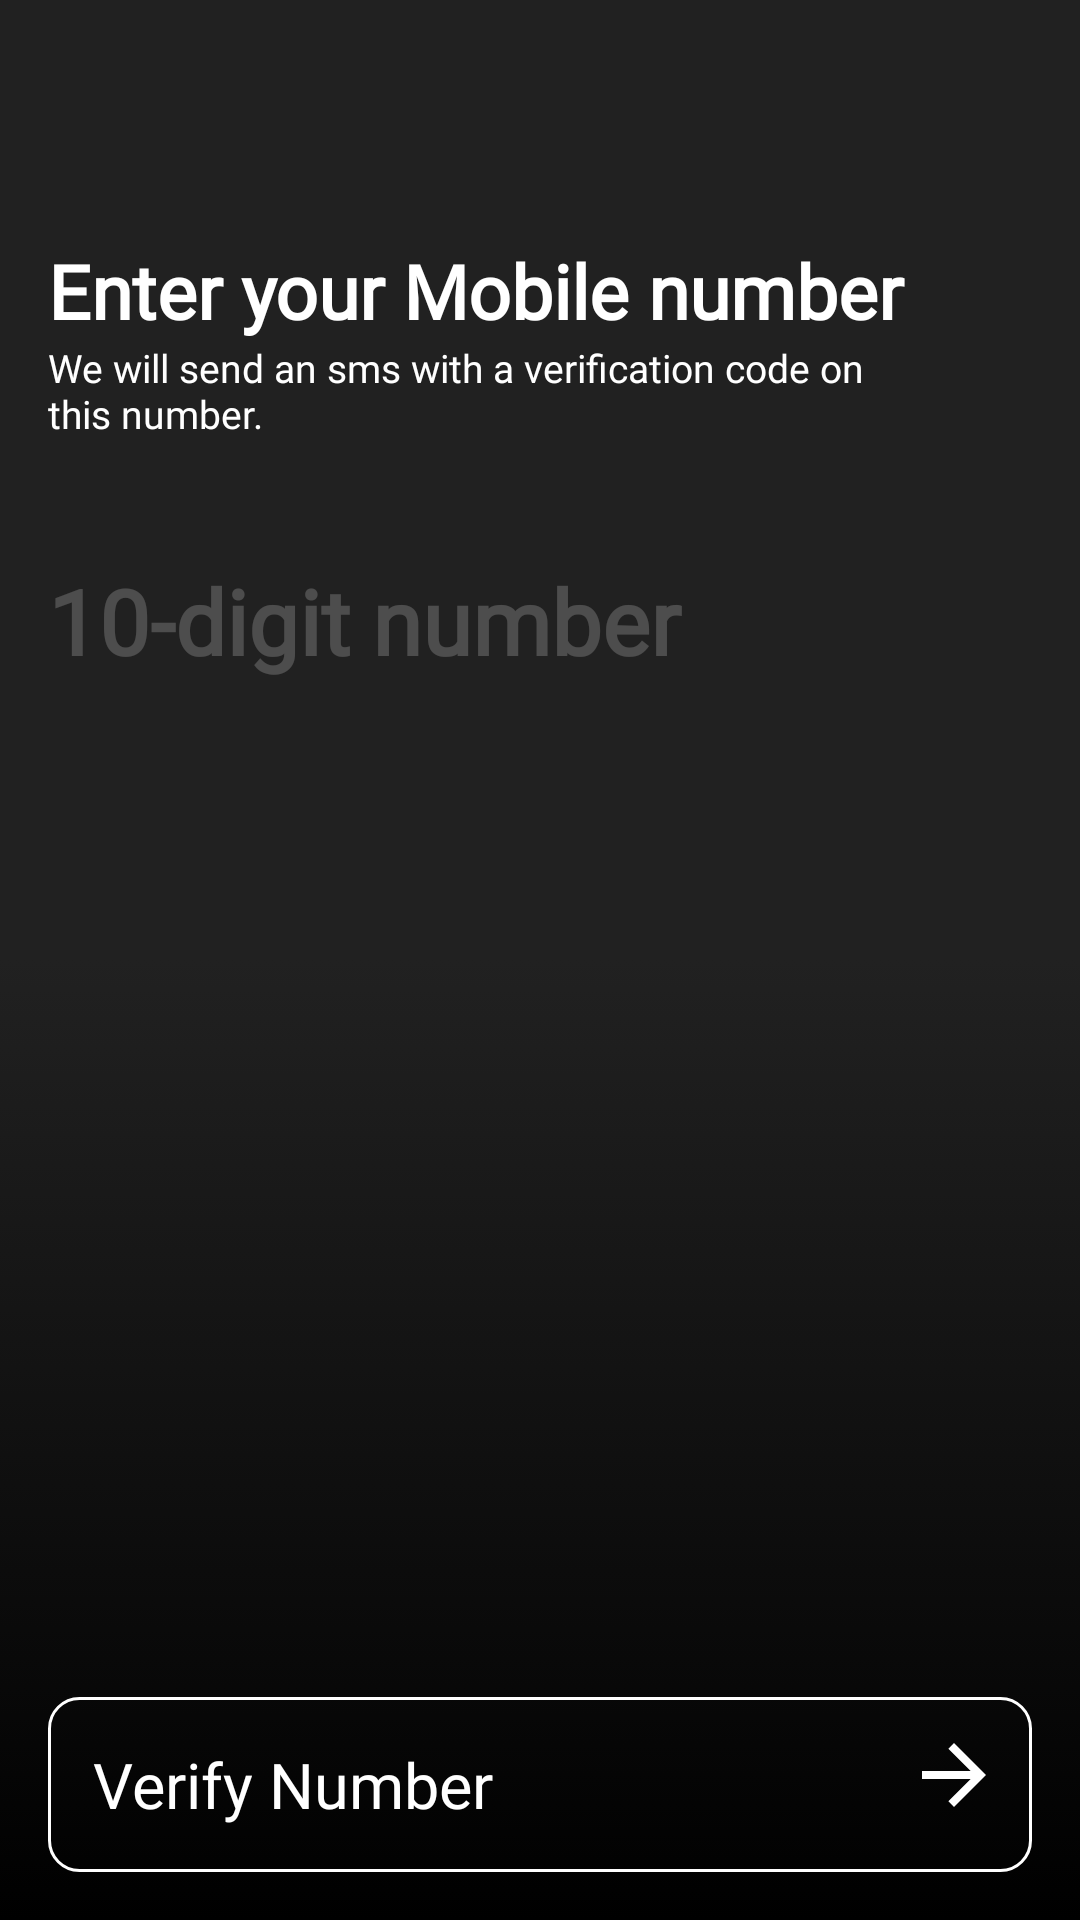

Icon bounding boxes for this 1080×1920 phone screenshot, format (x1, y1, x2, y2):
arrow forward: (922, 1743, 986, 1807)
